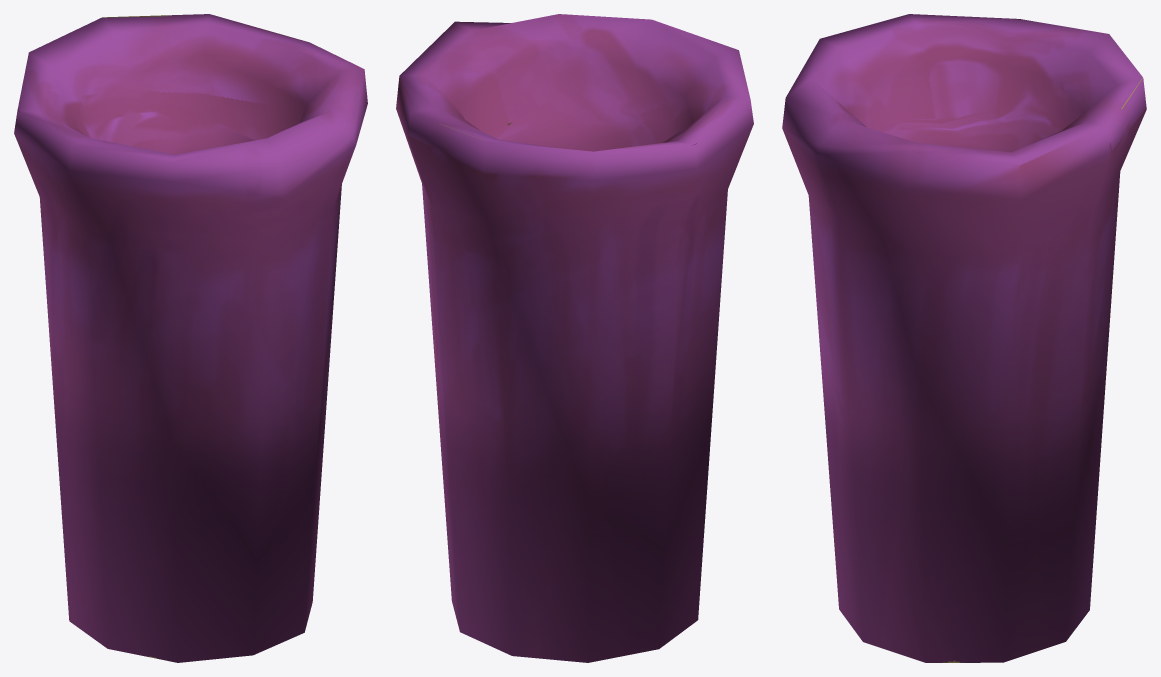
The model's file is Coral_v1.fbx.
3 views of the same model, side by side, from view 1: azimuth 30°, elevation 25°; view 2: azimuth 150°, elevation 25°; view 3: azimuth 270°, elevation 25° (orthographic).
Parts seen in each view (by area): view 1: Carall_v1; view 2: Carall_v1; view 3: Carall_v1.
Part boxes in pixels (box(x1,y1,x2,y2)): Carall_v1: box(14, 14, 367, 662); Carall_v1: box(396, 14, 753, 662); Carall_v1: box(782, 14, 1146, 662).
Size of the model in its own units: 229 by 389 by 240.
